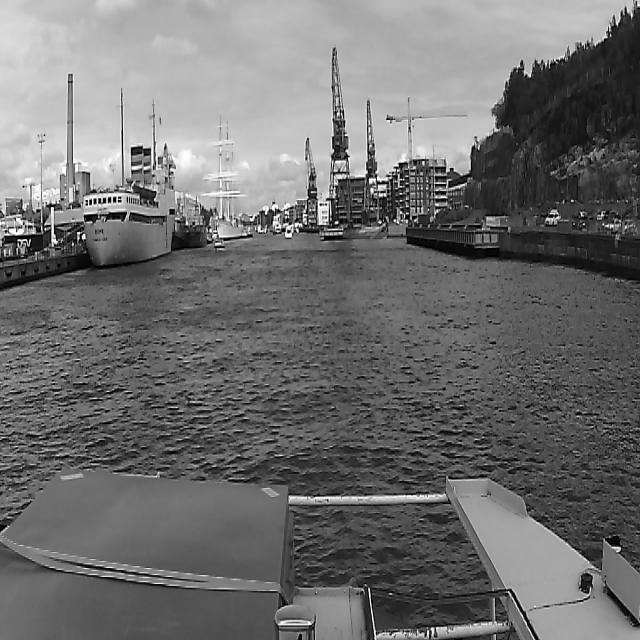ship: (83, 143, 175, 265), (204, 118, 246, 238), (172, 202, 207, 250), (271, 220, 283, 236), (215, 239, 225, 251), (285, 226, 293, 239), (246, 227, 252, 237), (296, 227, 299, 233)
